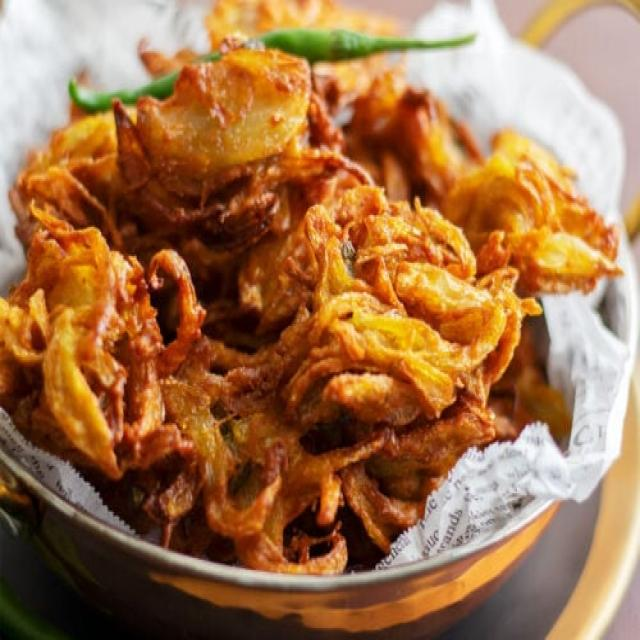BAJI: (1, 43, 618, 573)
